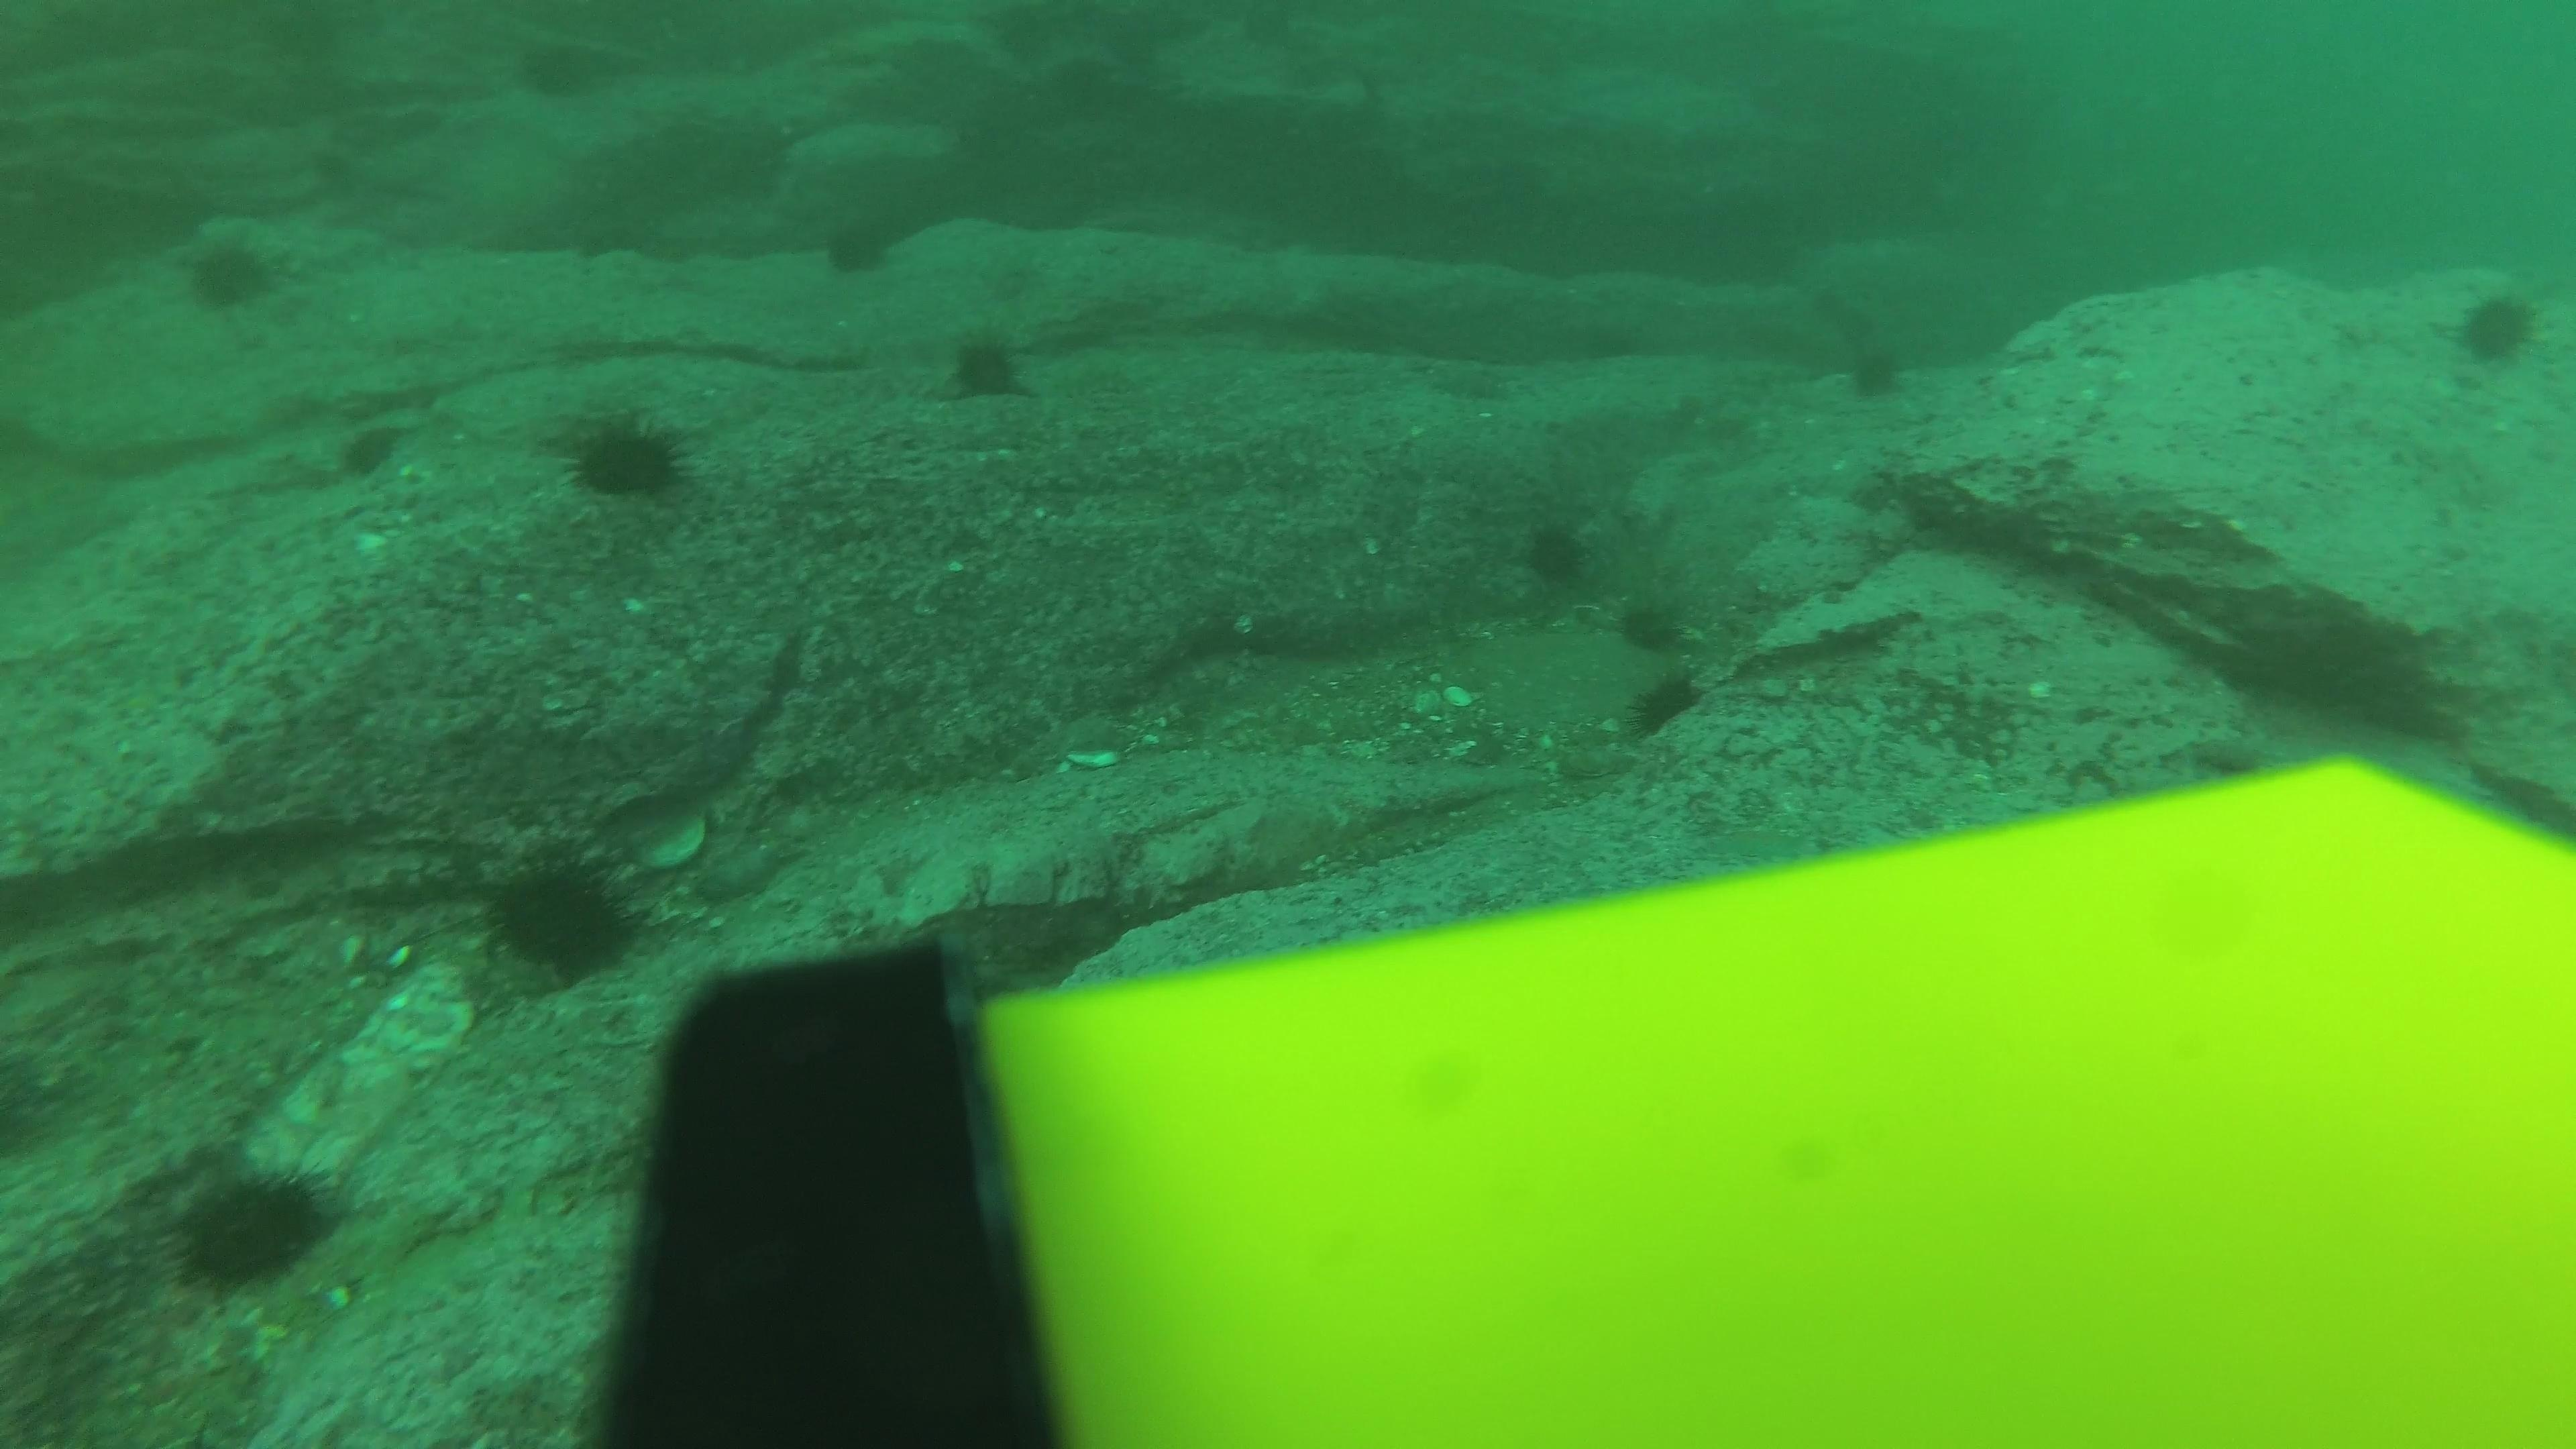echinus: (476, 844, 644, 985), (166, 1157, 338, 1295), (556, 403, 695, 508), (175, 225, 288, 318), (2443, 281, 2548, 372), (936, 324, 1037, 409), (1513, 513, 1603, 596), (1621, 663, 1709, 741), (973, 0, 1060, 73), (814, 211, 899, 283), (517, 28, 602, 101), (1219, 0, 1304, 73), (1835, 336, 1914, 405), (331, 416, 410, 485), (1614, 591, 1695, 658)
